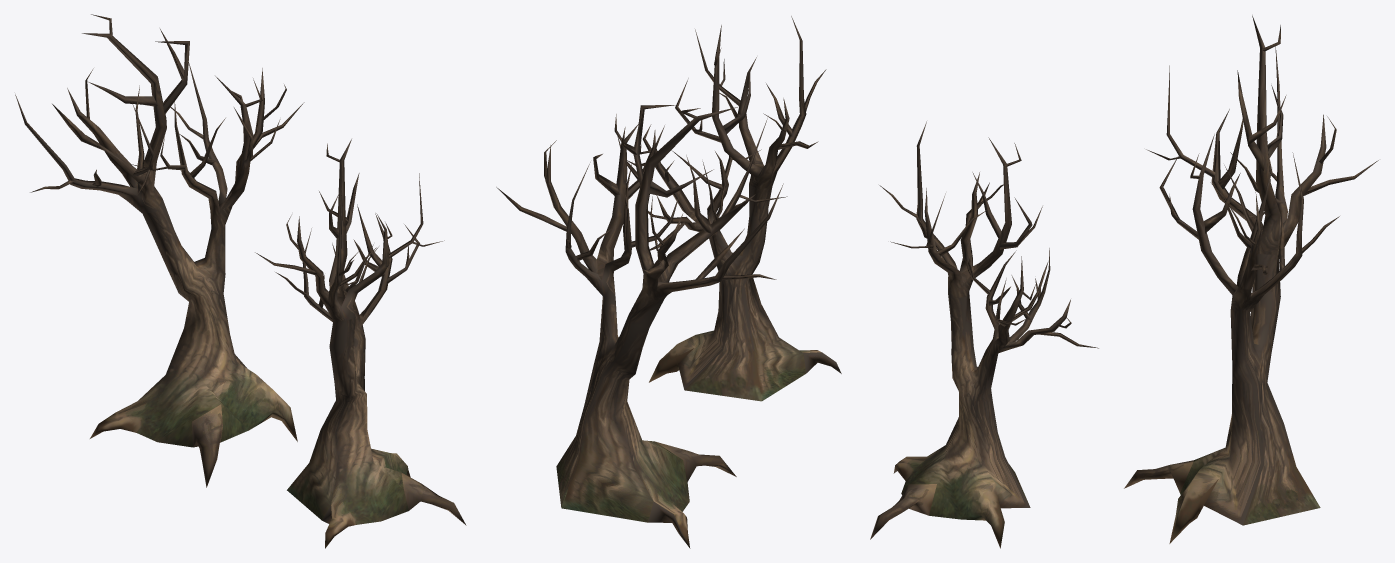
File: plants_tall_tree_trunks213.fbx
The picture shows the model from 3 angles, left to right: view 1: azimuth 30°, elevation 25°; view 2: azimuth 150°, elevation 25°; view 3: azimuth 270°, elevation 25°; orthographic projection. The views are drawn at different scales.
Visible parts, largest first — view 1: Material_#238683193/fancy_tree; view 2: Material_#238683193/fancy_tree; view 3: Material_#238683193/fancy_tree.
Boxes of the visible parts, x1,y1,x2,y2 form: Material_#238683193/fancy_tree: [15, 14, 466, 548]; Material_#238683193/fancy_tree: [496, 16, 841, 548]; Material_#238683193/fancy_tree: [870, 15, 1378, 548].
Size of the model in its own units: 6.63 by 9.49 by 9.82.
